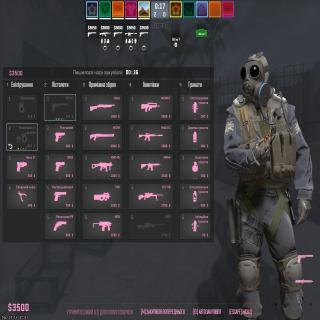CT-Body: (223, 50, 313, 320)
CT-Head: (239, 51, 271, 106)
